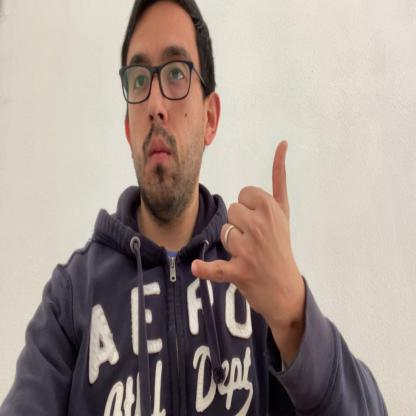Y: (192, 140, 296, 306)
